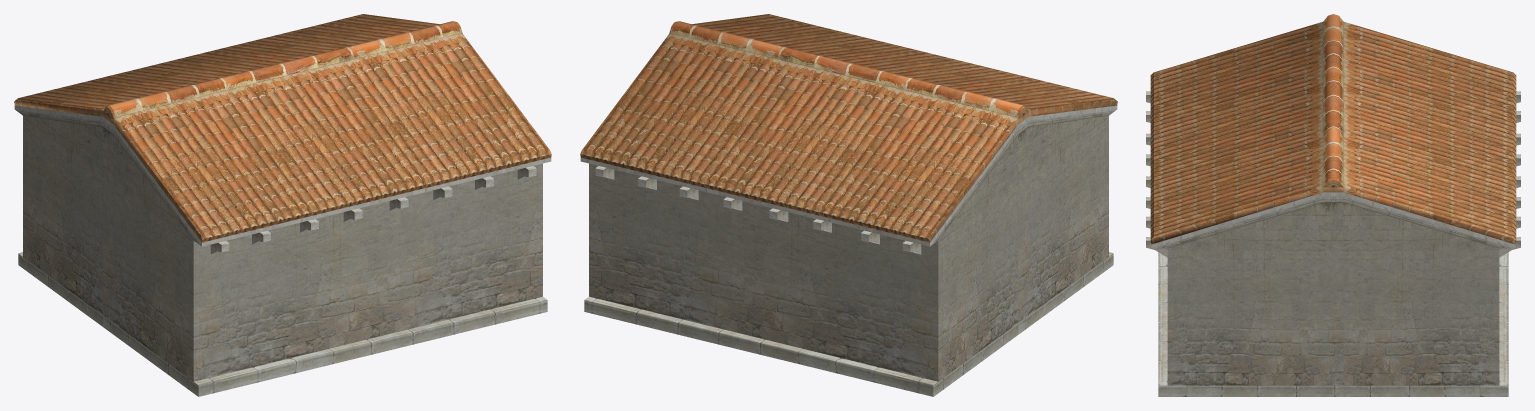
Rendered from bg_atm_leonhart_housestore02_sm_jjy.FBX.
The picture shows the model from 3 angles, left to right: view 1: azimuth 30°, elevation 25°; view 2: azimuth 150°, elevation 25°; view 3: azimuth 270°, elevation 25°; orthographic projection. The views are drawn at different scales.
Parts seen in each view (by area): view 1: bg_atm_leonhart_housestore02_sm_jjy; view 2: bg_atm_leonhart_housestore02_sm_jjy; view 3: bg_atm_leonhart_housestore02_sm_jjy.
Boxes of the visible parts, left/top/right/bottom form: bg_atm_leonhart_housestore02_sm_jjy: left=14, top=14, right=551, bottom=396; bg_atm_leonhart_housestore02_sm_jjy: left=580, top=14, right=1117, bottom=396; bg_atm_leonhart_housestore02_sm_jjy: left=1146, top=14, right=1520, bottom=396.
Bounding box in the file's own units: 624 × 384 × 597.
